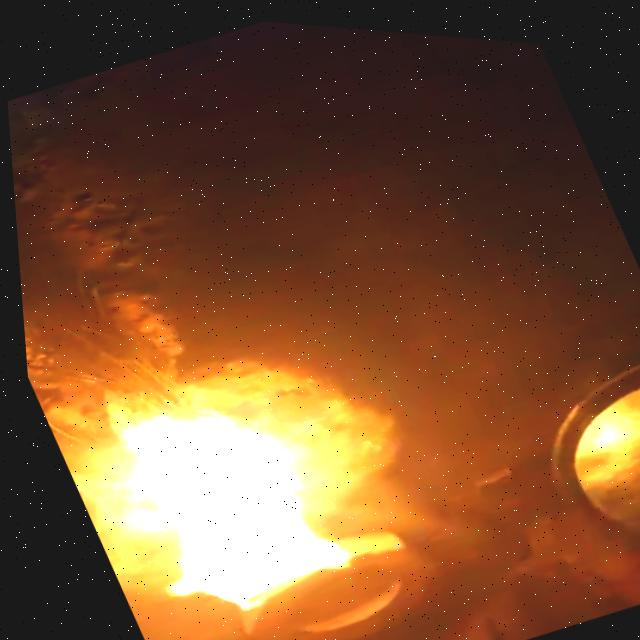Fire: (63, 358, 362, 640)
